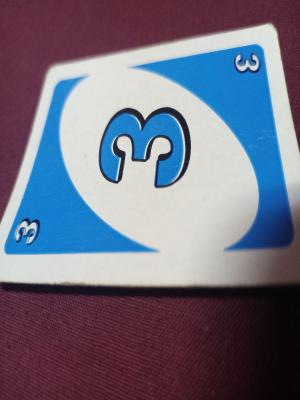num_3: (98, 100, 194, 197), (227, 44, 270, 87), (9, 209, 45, 253)
